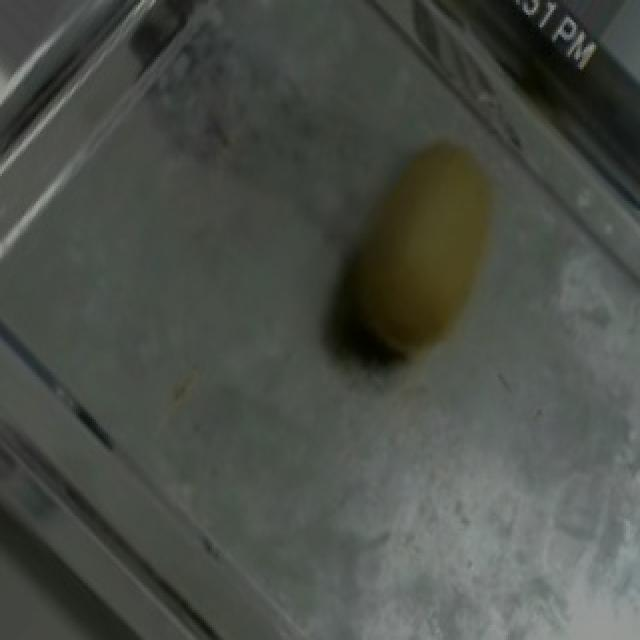Fruit: (290, 107, 540, 387)
